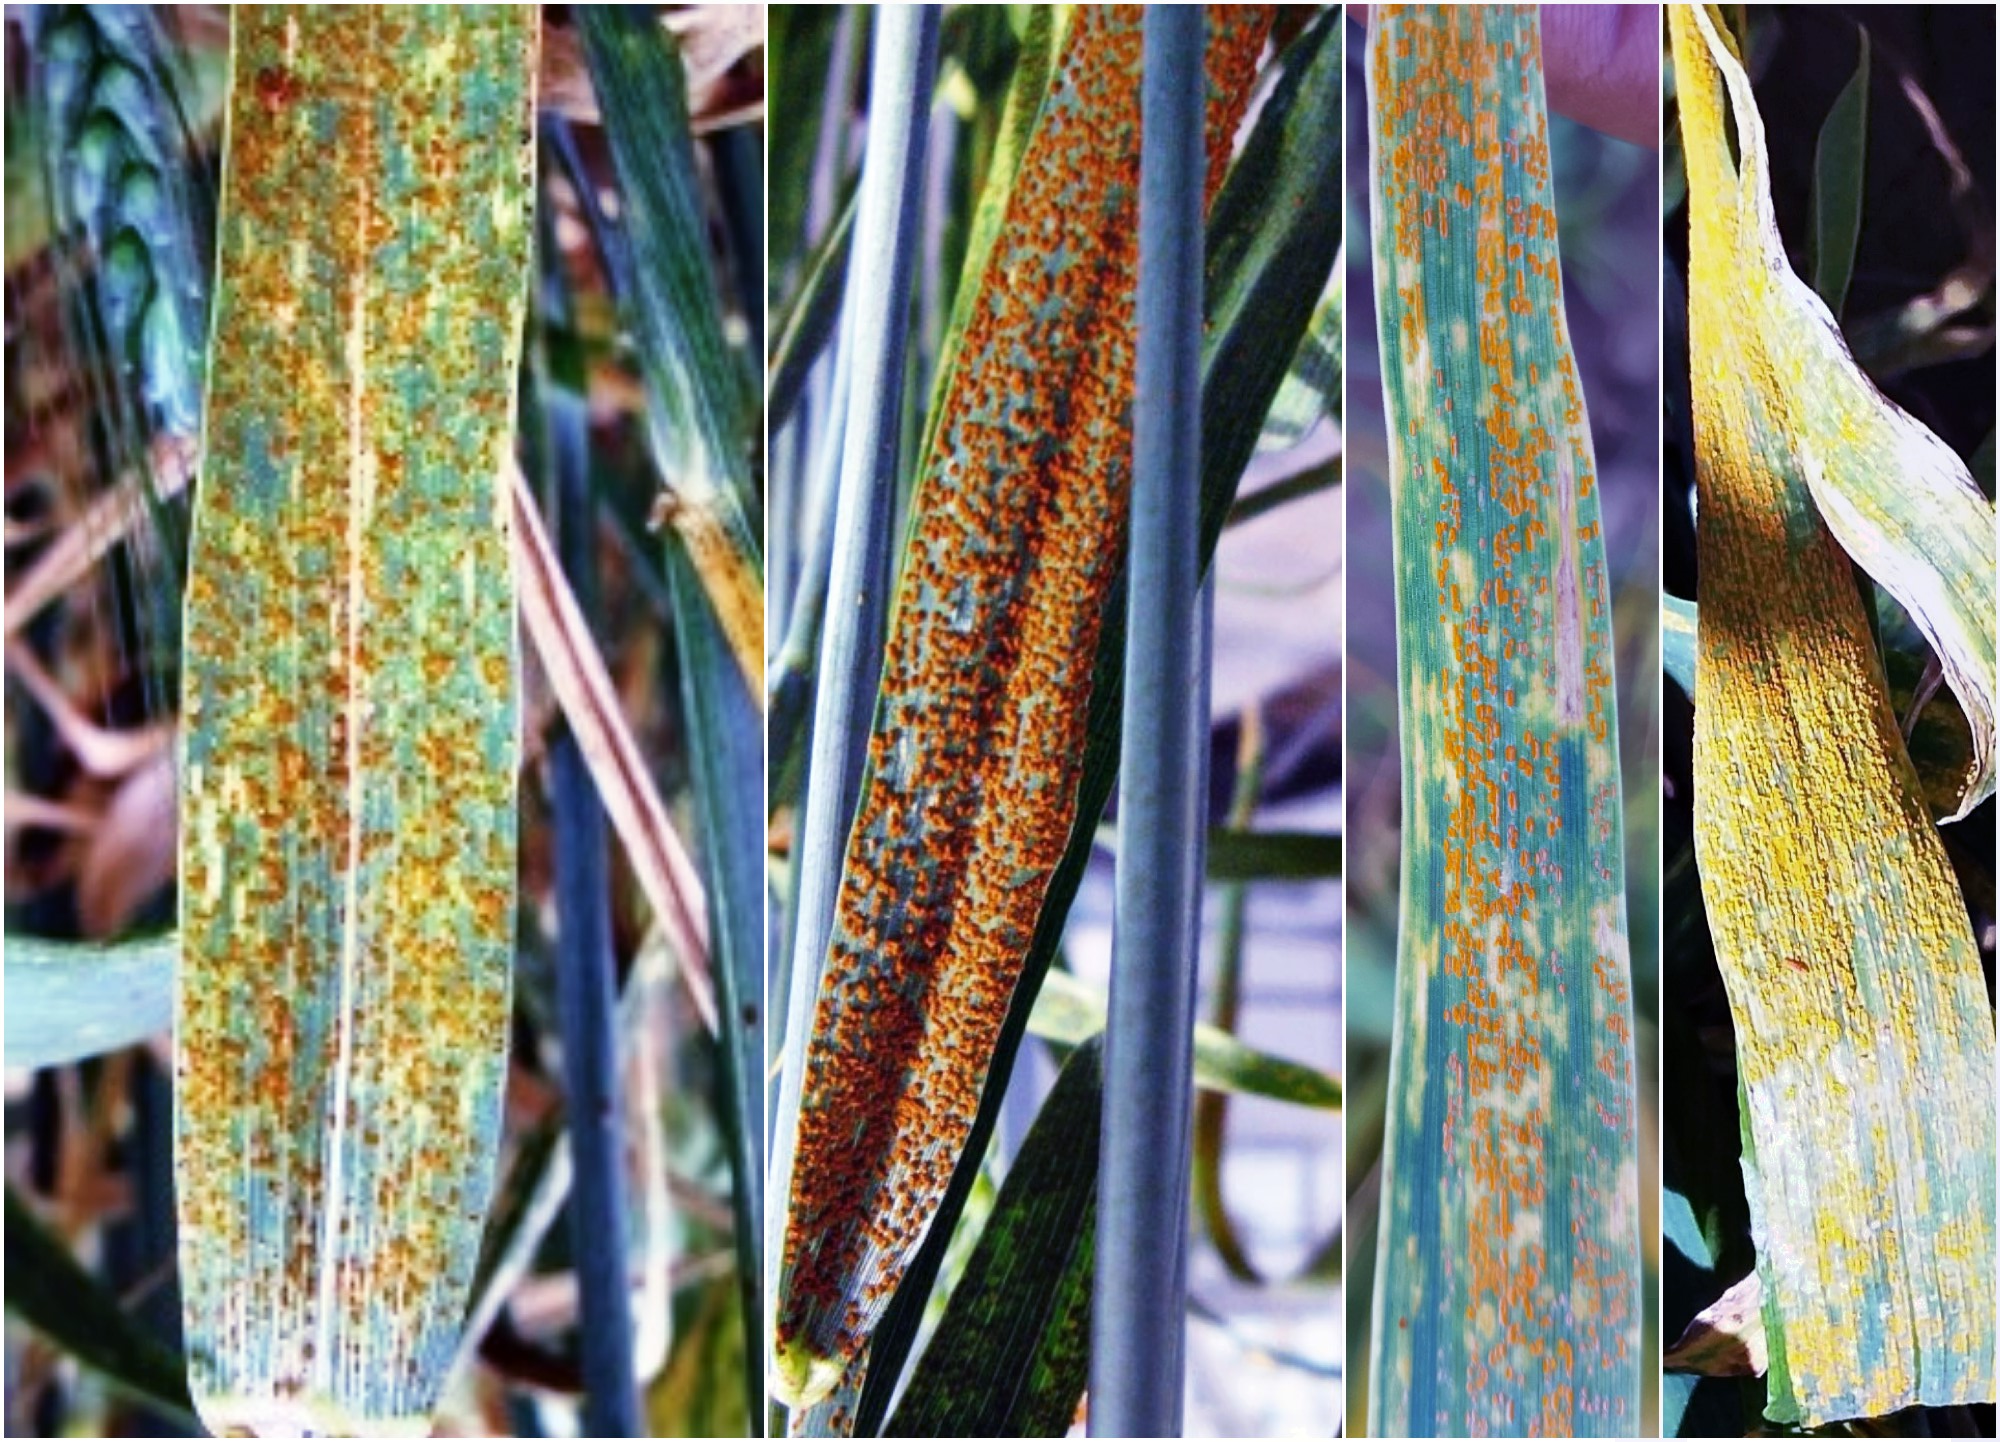Leaf Rust: (129, 67, 554, 1333), (809, 70, 1154, 1284), (1356, 73, 1660, 1402), (1671, 237, 1992, 1374)
